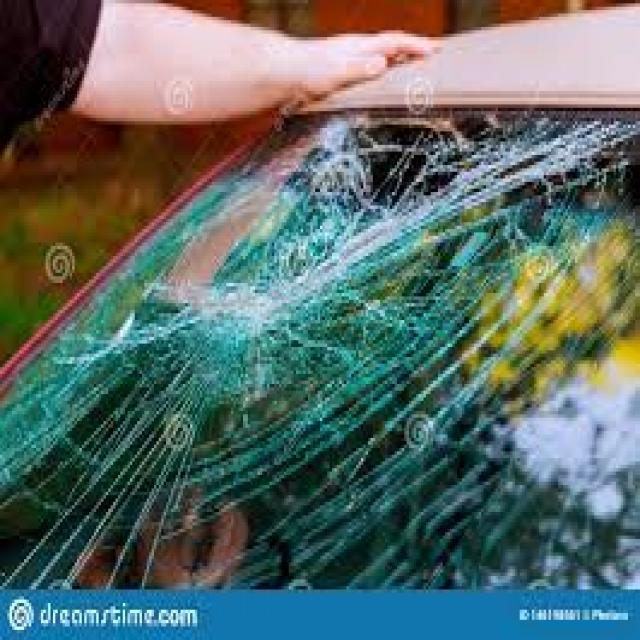damaged-windscreen: (0, 90, 640, 596)
